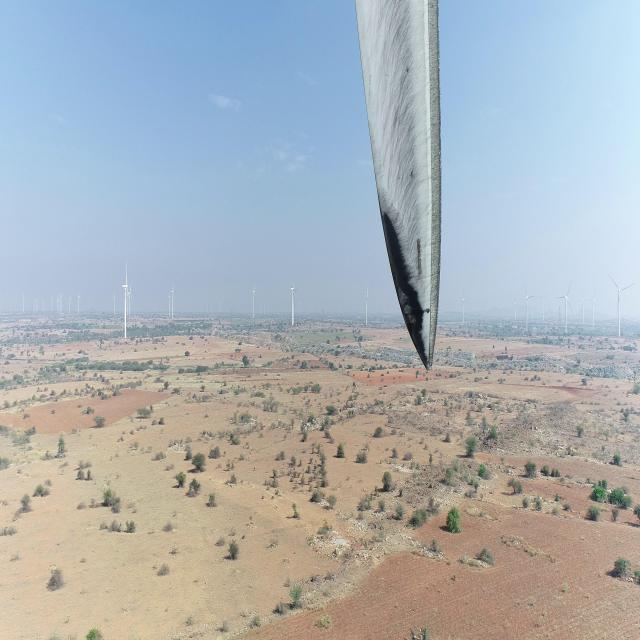Dirt: (353, 0, 444, 374)
Oil LEAKAGE: (375, 205, 435, 368)
Pin Hole: (423, 306, 434, 318), (411, 168, 417, 180), (406, 65, 411, 74)
